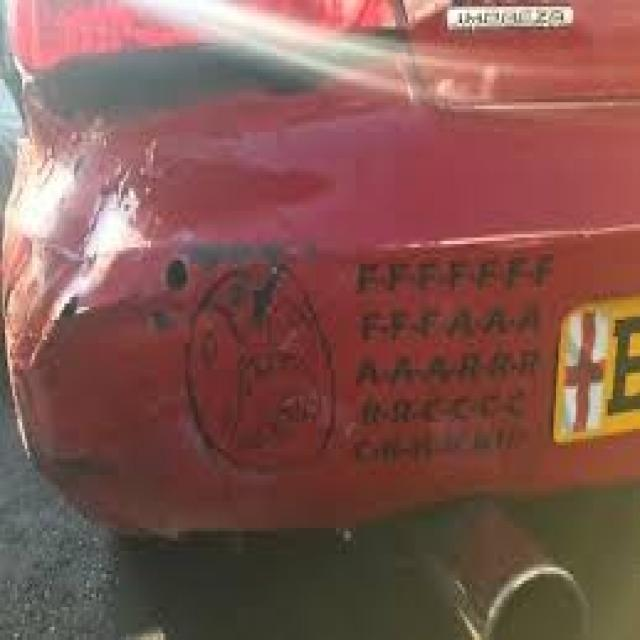dent-or-scratch: (10, 116, 201, 234)
